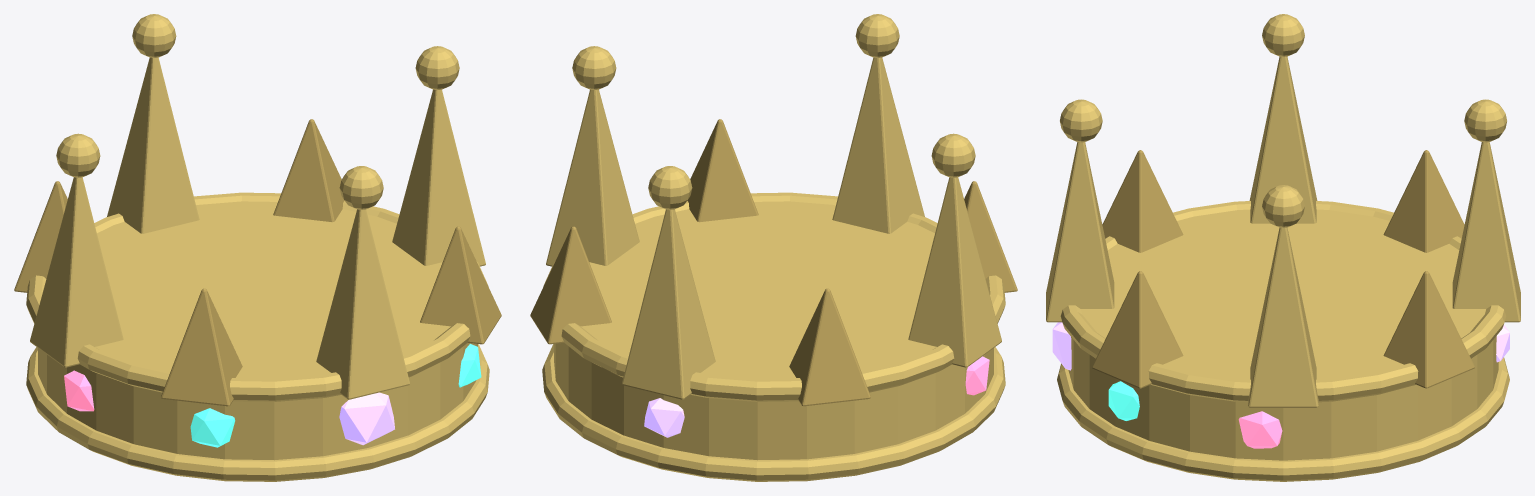
Rendered from master.glb.
The picture shows the model from 3 angles, left to right: view 1: azimuth 30°, elevation 25°; view 2: azimuth 150°, elevation 25°; view 3: azimuth 270°, elevation 25°; orthographic projection. The views are drawn at different scales.
Parts seen in each view (by area): view 1: band, rim_bottom, point_0, point_6, point_4, rim_top, point_2, point_7, point_1, point_3, point_5, gem_front (+7 smaller); view 2: band, rim_bottom, point_4, point_6, point_0, rim_top, point_2, point_5, point_3, point_1, point_7, orb_2 (+5 smaller); view 3: band, rim_bottom, rim_top, point_2, point_0, point_4, point_6, point_1, point_3, point_5, point_7, orb_0 (+6 smaller).
Boxes of the visible parts, left/top/right/bottom form: band: left=38, top=201, right=477, bottom=460; rim_bottom: left=26, top=344, right=489, bottom=481; point_0: left=316, top=209, right=409, bottom=399; point_6: left=30, top=177, right=123, bottom=367; point_4: left=107, top=57, right=199, bottom=233; rim_top: left=26, top=192, right=488, bottom=401; point_2: left=392, top=89, right=485, bottom=266; point_7: left=161, top=288, right=242, bottom=406; point_1: left=420, top=226, right=501, bottom=344; point_3: left=273, top=119, right=344, bottom=222; point_5: left=14, top=181, right=67, bottom=292; gem_front: left=339, top=392, right=394, bottom=445; band: left=554, top=201, right=993, bottom=460; rim_bottom: left=542, top=344, right=1005, bottom=481; point_4: left=622, top=209, right=715, bottom=399; point_6: left=908, top=177, right=1001, bottom=367; point_0: left=832, top=57, right=924, bottom=233; rim_top: left=543, top=192, right=1005, bottom=401; point_2: left=546, top=89, right=639, bottom=266; point_5: left=789, top=288, right=870, bottom=406; point_3: left=530, top=226, right=611, bottom=344; point_1: left=687, top=119, right=758, bottom=222; point_7: left=964, top=181, right=1017, bottom=292; orb_2: left=572, top=46, right=616, bottom=89; band: left=1068, top=209, right=1498, bottom=460; rim_bottom: left=1057, top=357, right=1509, bottom=481; rim_top: left=1060, top=201, right=1506, bottom=402; point_2: left=1248, top=227, right=1318, bottom=407; point_0: left=1046, top=142, right=1114, bottom=322; point_4: left=1452, top=142, right=1520, bottom=322; point_6: left=1249, top=56, right=1317, bottom=223; point_1: left=1092, top=271, right=1183, bottom=388; point_3: left=1383, top=271, right=1474, bottom=388; point_5: left=1383, top=150, right=1464, bottom=252; point_7: left=1102, top=150, right=1183, bottom=252; orb_0: left=1060, top=99, right=1102, bottom=142.
Bounding box in the file's own units: 0.662 × 0.4432 × 0.662.
